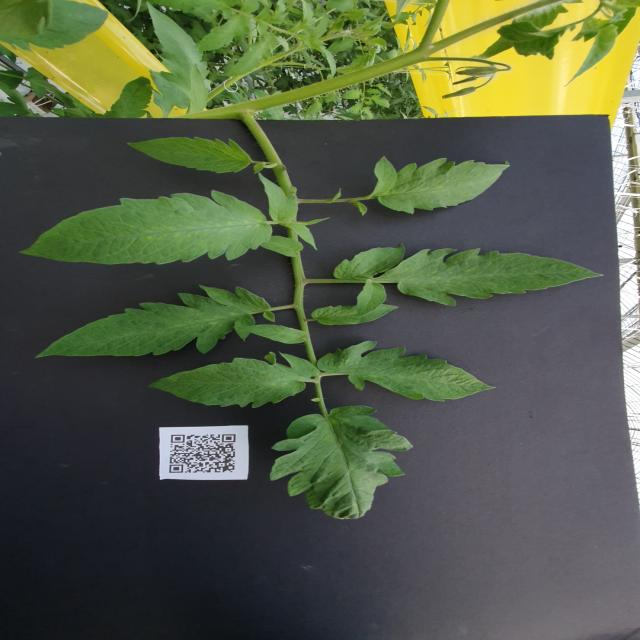Healthy Leaf: (333, 244, 604, 318), (20, 189, 273, 265), (34, 286, 277, 358), (266, 405, 414, 519), (317, 341, 500, 402), (146, 351, 320, 409), (371, 156, 510, 215), (144, 0, 210, 81), (126, 136, 251, 174), (257, 173, 299, 223), (310, 303, 399, 326), (230, 325, 307, 344)
